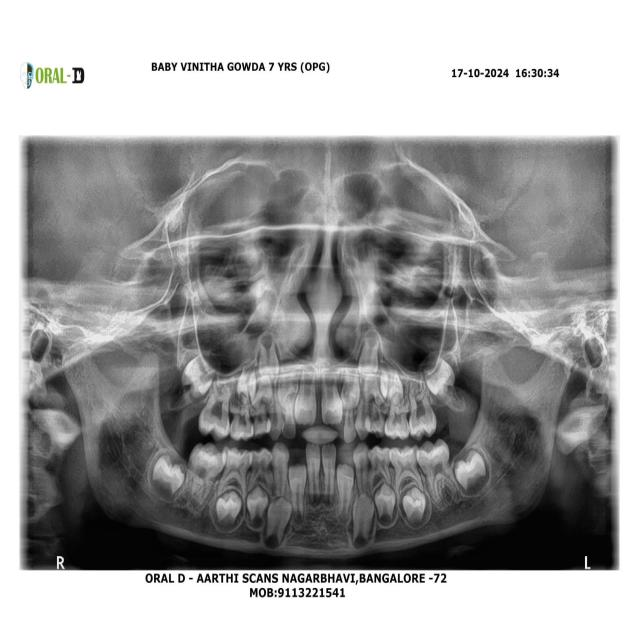Premolars: (366, 444, 395, 500)
